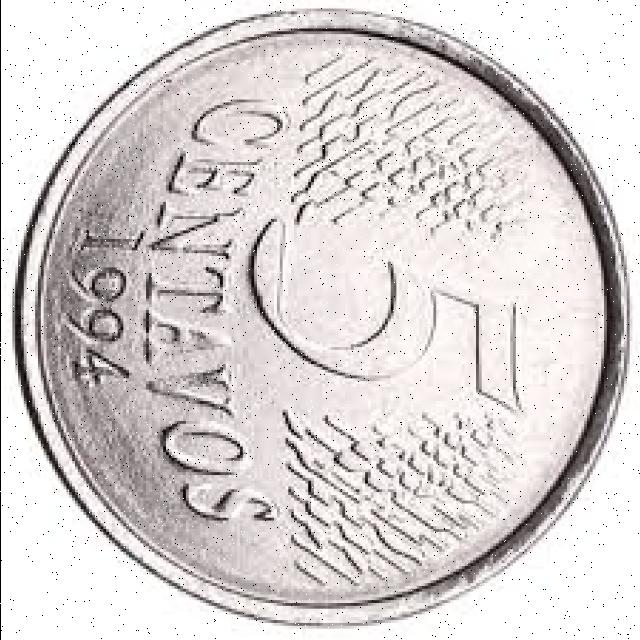5 cent: (29, 32, 634, 610)
